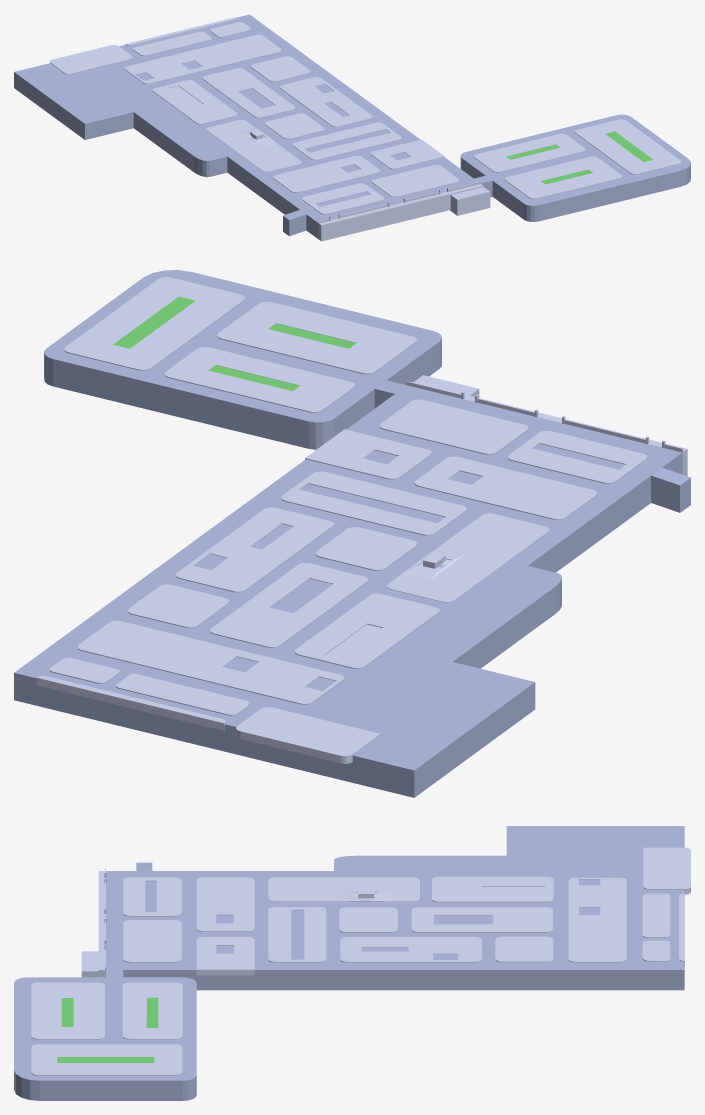
The model's file is RoadAndFloors.glb.
The picture shows the model from 3 angles, top to bottom: view 1: azimuth 30°, elevation 25°; view 2: azimuth 150°, elevation 25°; view 3: azimuth 270°, elevation 25°; orthographic projection. The views are drawn at different scales.
Parts seen in each view (by area): view 1: Road, Road.001, Floor.002, Floor.014, Floor.013, Floor.007, Floor.015, Floor.005, Floor.010, Floor.003, Floor.004, Floor.016 (+7 smaller); view 2: Road, Floor.002, Floor.014, Floor.013, Floor.007, Floor.015, Floor.005, Floor.012, Floor.010, Floor.003, Floor.004, Floor.016 (+7 smaller); view 3: Road, Floor.014, Floor.002, Floor.013, Floor.007, Floor.015, Floor.005, Floor.004, Floor.003, Floor.010, Floor.016, Floor (+7 smaller).
Boxes of the visible parts, x1,y1,x2,y2 form: Road: (14,14,690,238); Road.001: (318,181,490,241); Floor.002: (124,34,281,83); Floor.014: (575,119,681,174); Floor.013: (504,156,622,199); Floor.007: (206,119,301,171); Floor.015: (473,133,585,172); Floor.005: (280,77,372,126); Floor.010: (273,155,380,192); Floor.003: (202,68,295,117); Floor.004: (152,80,237,124); Floor.016: (292,122,401,160); Road: (14,270,690,797); Floor.002: (77,620,344,704); Floor.014: (64,277,245,370); Floor.013: (217,301,416,374); Floor.007: (387,513,549,602); Floor.015: (164,347,354,412); Floor.005: (175,507,333,592); Floor.012: (37,657,249,730); Floor.010: (414,456,597,519); Floor.003: (210,563,368,647); Floor.004: (294,593,439,668); Floor.016: (281,471,466,535); Road: (14,826,684,1100); Floor.014: (31,1044,182,1075); Floor.002: (568,877,626,962); Floor.013: (31,982,104,1039); Floor.007: (268,877,419,901); Floor.015: (122,982,182,1039); Floor.005: (340,937,481,962); Floor.004: (432,876,553,902); Floor.003: (411,907,552,932); Floor.010: (196,877,254,931); Floor.016: (268,907,326,962); Floor: (123,920,181,962).
Size of the model in its own units: 133 by 6.61 by 149.
